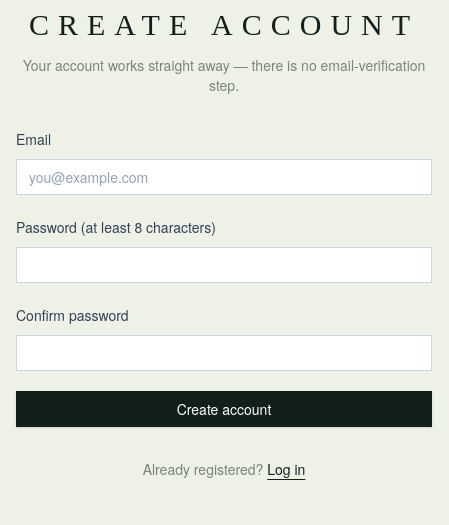
Test: Create Account › [AC-008] shows the validation message for a too-short password, and never calls the API
In the field with test id "email-input": (224, 177) [16,159,432,195], type "visitor@example.com"
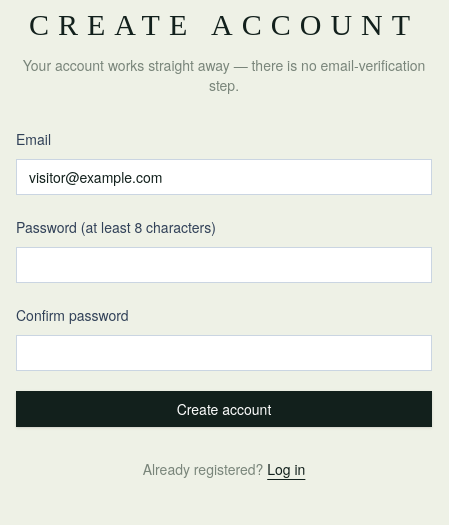
In the password field with test id "password-at-least-8-characters-input": (224, 265) [16,247,432,283], type "short"
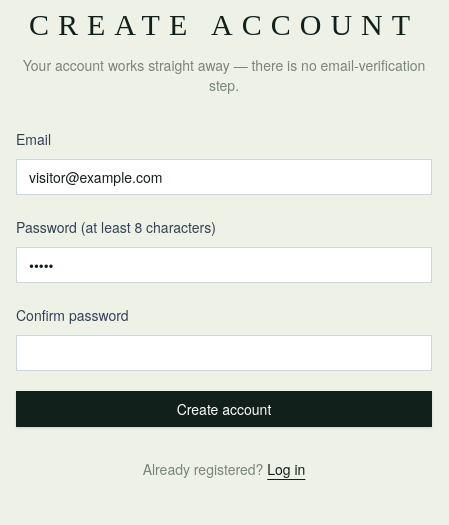
In the password field with test id "confirm-password-input": (224, 353) [16,335,432,371], type "short"
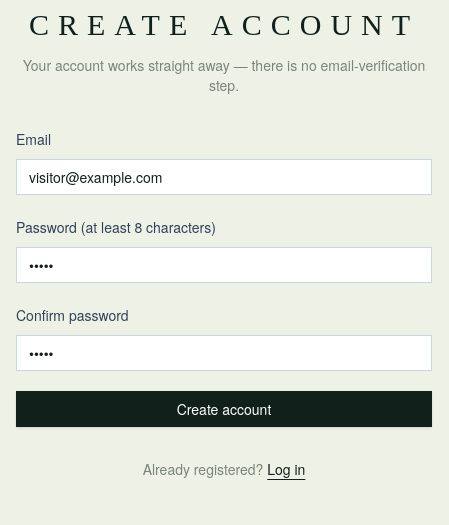
Click the button with test id "create-account-btn": (224, 409) [16,391,432,427]
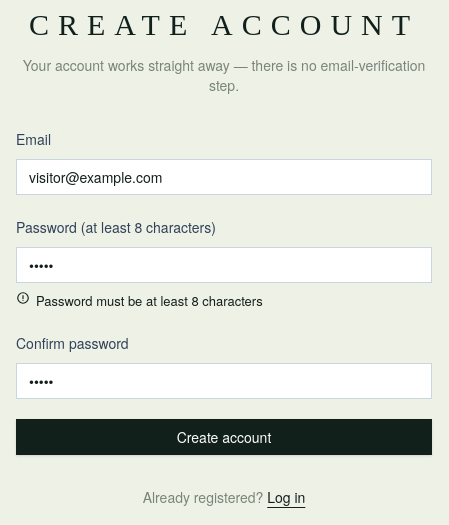
Check: the text "Password must be at least 8 characters" is shown, box [16,291,263,310]
